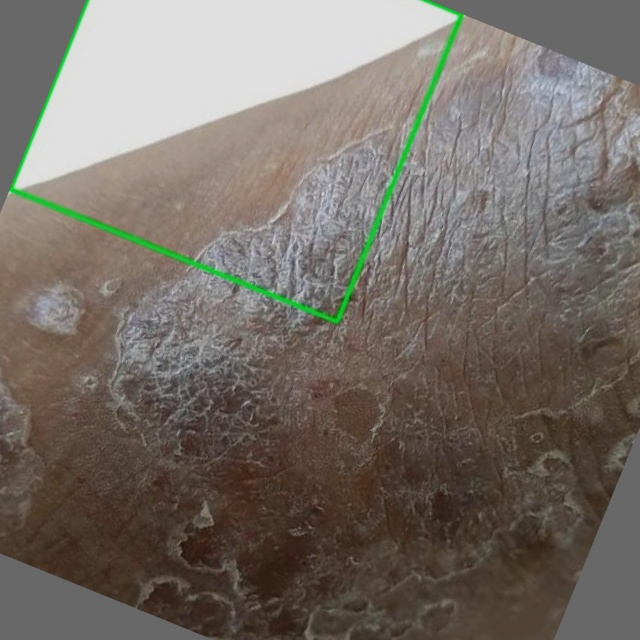Contact Dermatitis: (10, 0, 461, 321)
